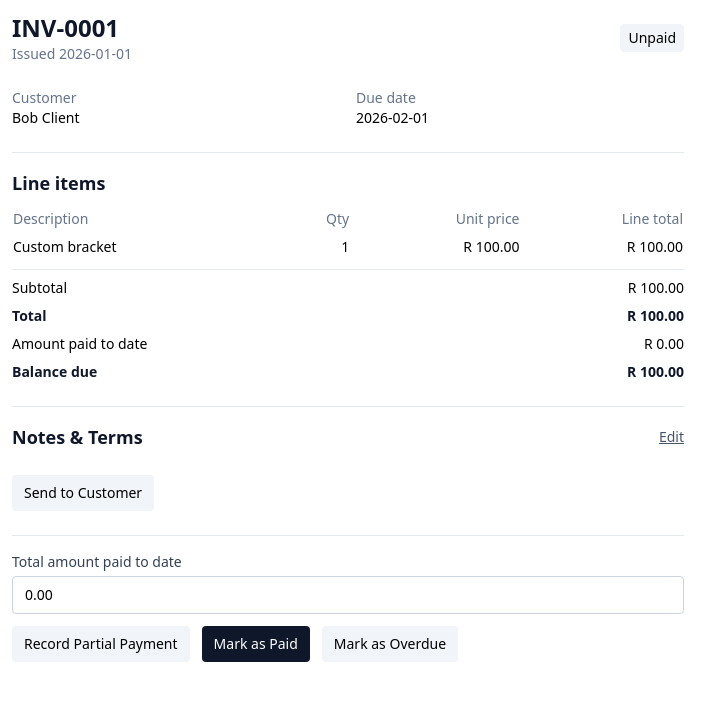
Scenario: InvoiceDetailPage › clears a stale send success banner when an unrelated status-changing action runs
Click the button "Send to Customer" at point(83, 493), box [12,475,154,511]
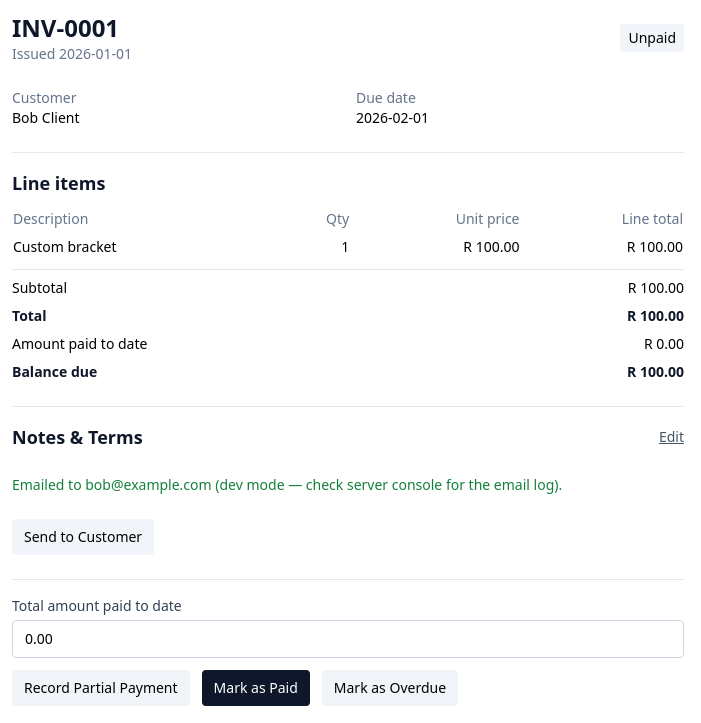
Expected: the text "Emailed to bob@example.com" is shown, [12,475,562,494]
Click the button "Mark as Overdue" at point(390, 688), box [322,670,458,706]
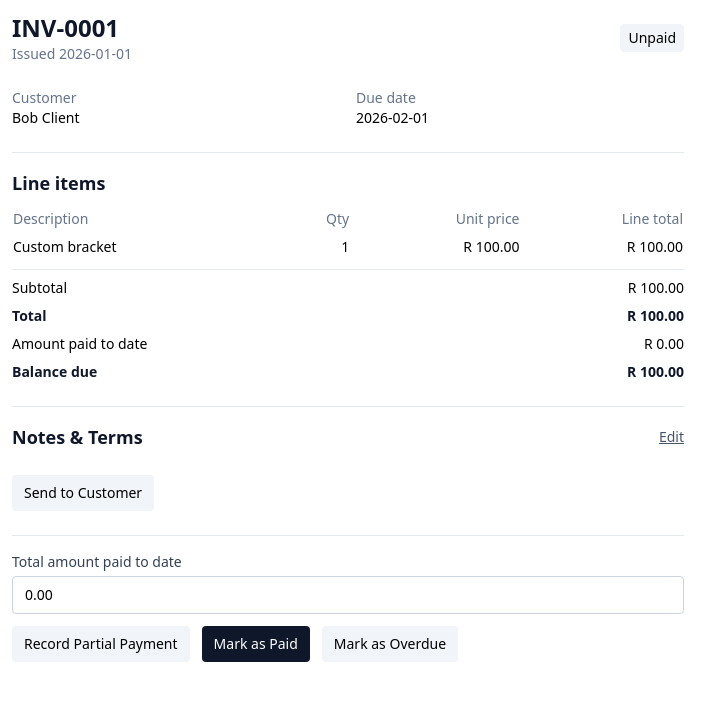
Expected: the text "Emailed to" is gone
